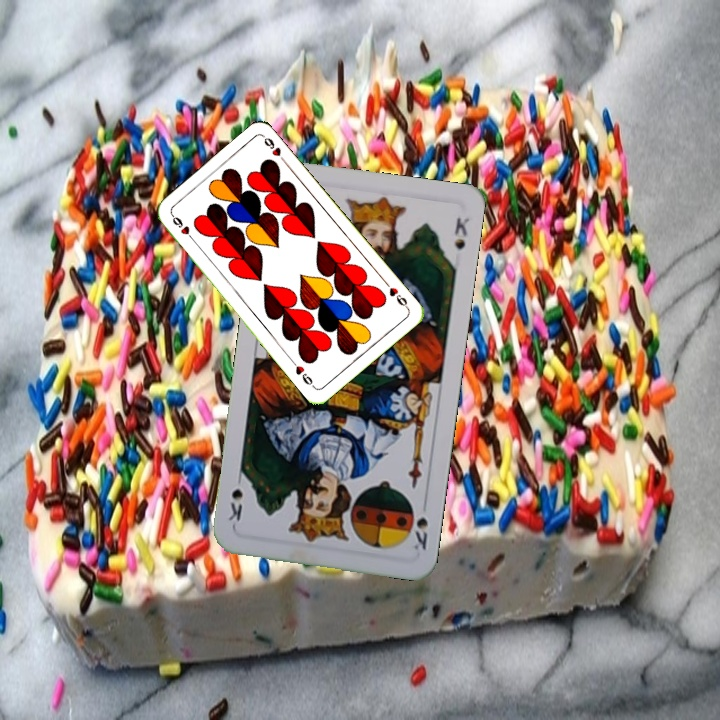H9: (168, 210, 197, 245), (381, 278, 411, 311)
SK: (409, 513, 431, 553)
